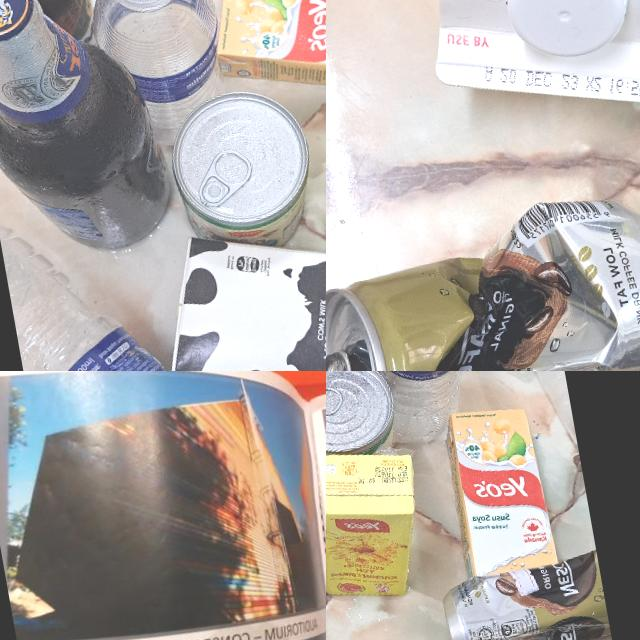aba de lata: (192, 144, 258, 208)
caixinha: (147, 186, 326, 371), (409, 0, 640, 137), (444, 402, 559, 584), (326, 448, 430, 605), (205, 0, 326, 115)
garrafa de vidro: (0, 0, 184, 268)
garrafa plástica: (0, 180, 257, 371), (81, 0, 238, 163), (524, 371, 597, 560), (360, 371, 497, 447)
lata: (326, 178, 640, 371), (158, 80, 326, 263), (436, 541, 614, 640), (326, 371, 406, 510), (326, 371, 348, 419)
papel: (0, 371, 326, 640)
tampa plástica: (493, 0, 640, 68)
